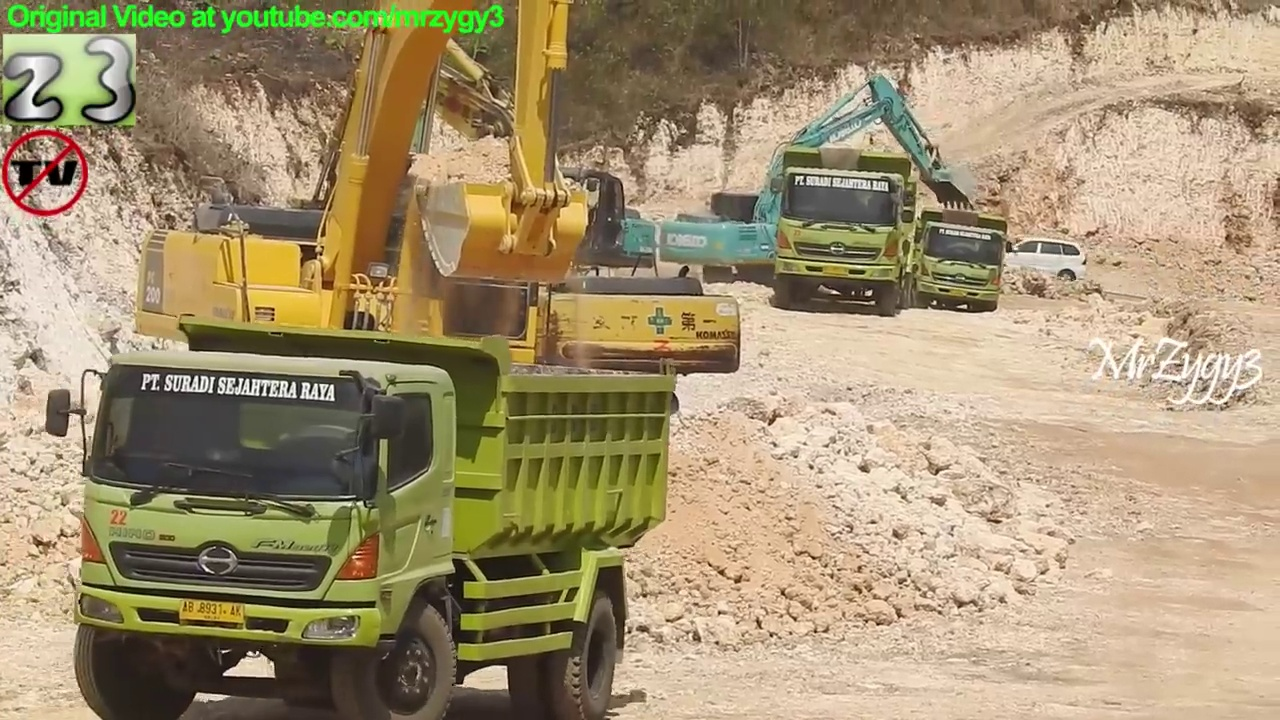excavator: (69, 1, 634, 485), (228, 1, 750, 438), (351, 1, 665, 316), (658, 68, 981, 296)
truck: (41, 309, 690, 720), (764, 138, 934, 321), (895, 199, 1016, 317)
